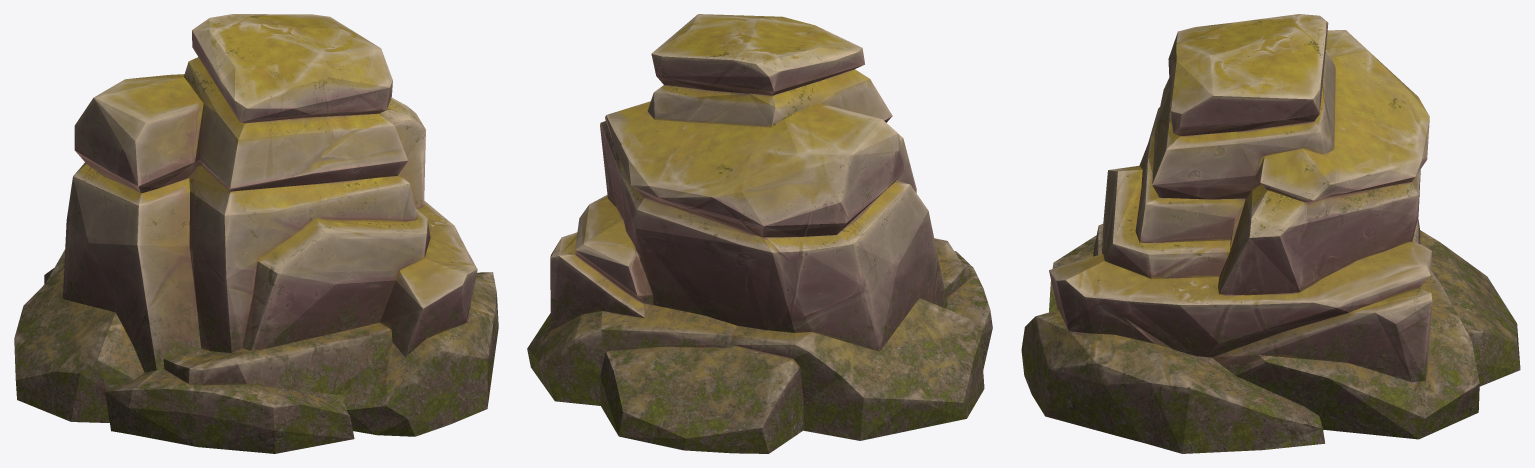
Rendered from ROK0110019.fbx.
3 renders of one model, left to right at view 1: azimuth 30°, elevation 25°; view 2: azimuth 150°, elevation 25°; view 3: azimuth 270°, elevation 25°, orthographic. The views are drawn at different scales.
Visible parts, largest first — view 1: smROK0110019; view 2: smROK0110019; view 3: smROK0110019.
Boxes of the visible parts, x1,y1,x2,y2 form: smROK0110019: (14, 14, 498, 453); smROK0110019: (527, 14, 992, 453); smROK0110019: (1021, 14, 1520, 453).
Size of the model in its own units: 383 by 282 by 389.
